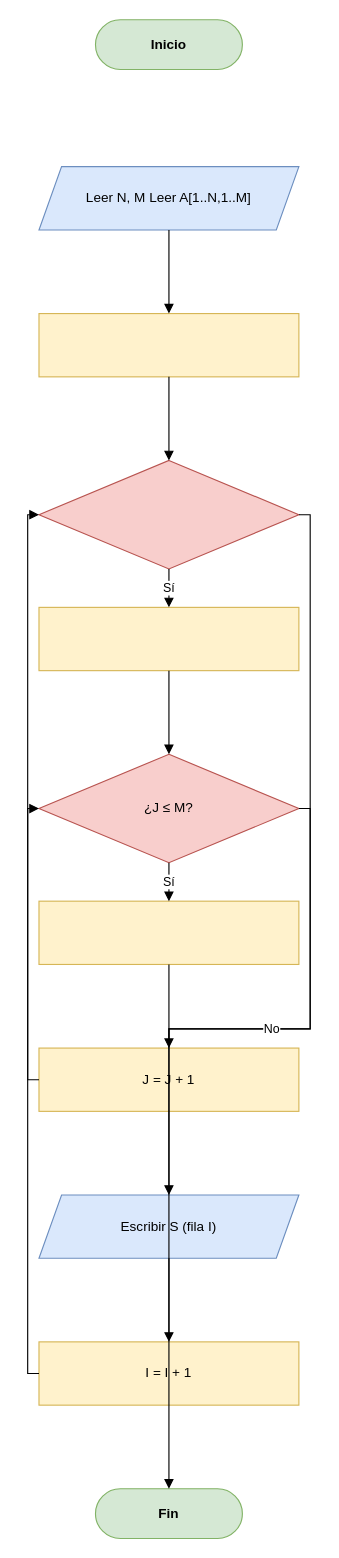
Image size: 339x1558. Some labels were removed from this diagram. The centre of each missing label's shape, as x and y in pixels:
"I = 1" goes at [168,344].
"S = 0 J = 1" goes at [168,638].
"S = S + A[I,J]" goes at [168,932].
"¿I ≤ N?" goes at [168,514].
